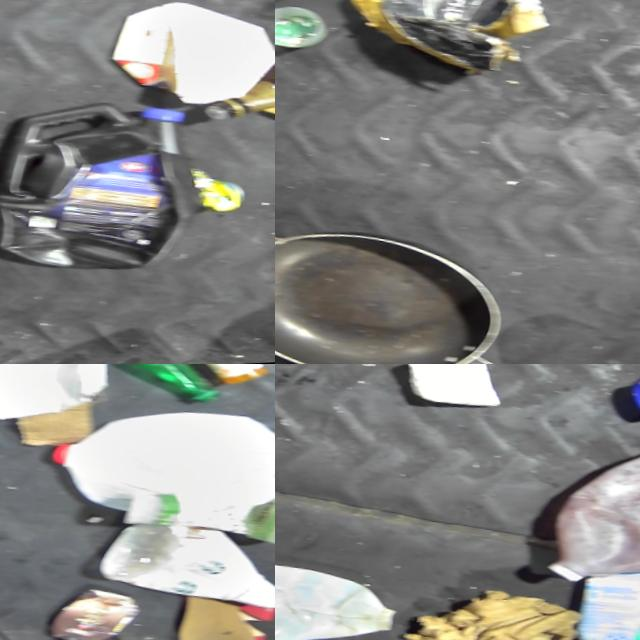can: (184, 364, 275, 396), (241, 471, 275, 555)
milk_jug: (43, 395, 275, 542), (109, 0, 275, 119), (97, 513, 275, 620), (538, 436, 640, 602), (275, 547, 409, 640)
non_white_jug: (0, 93, 207, 282)
plastic_bottle: (72, 364, 244, 415)
